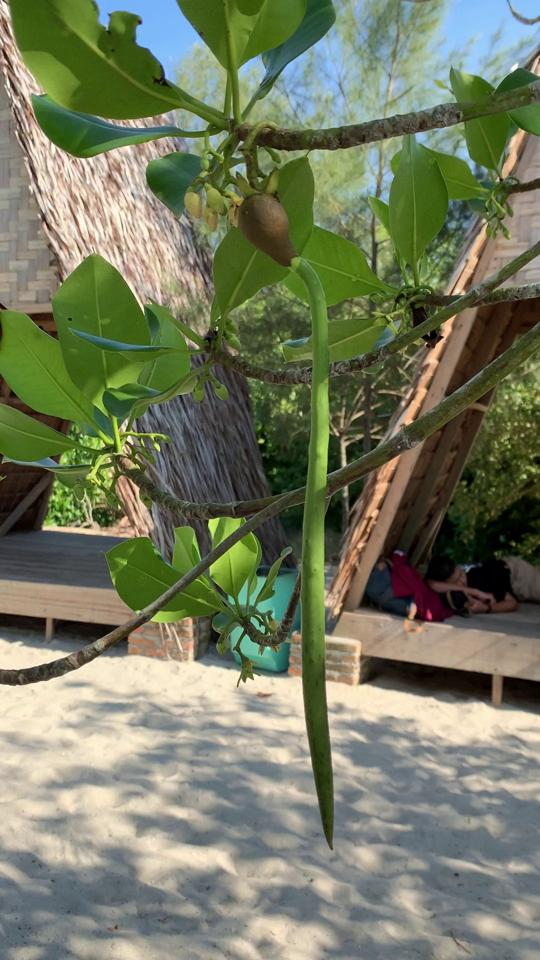setengah matang: (227, 177, 343, 855)
